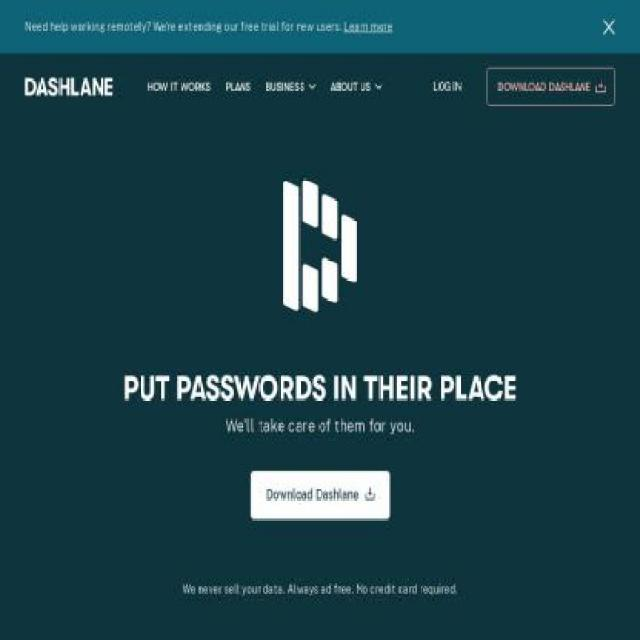button: (250, 465, 390, 526), (250, 472, 390, 519), (487, 68, 615, 106), (25, 77, 112, 97), (147, 77, 210, 97), (331, 77, 371, 97), (265, 77, 304, 97), (434, 77, 461, 97), (226, 77, 251, 97), (602, 17, 615, 37)
